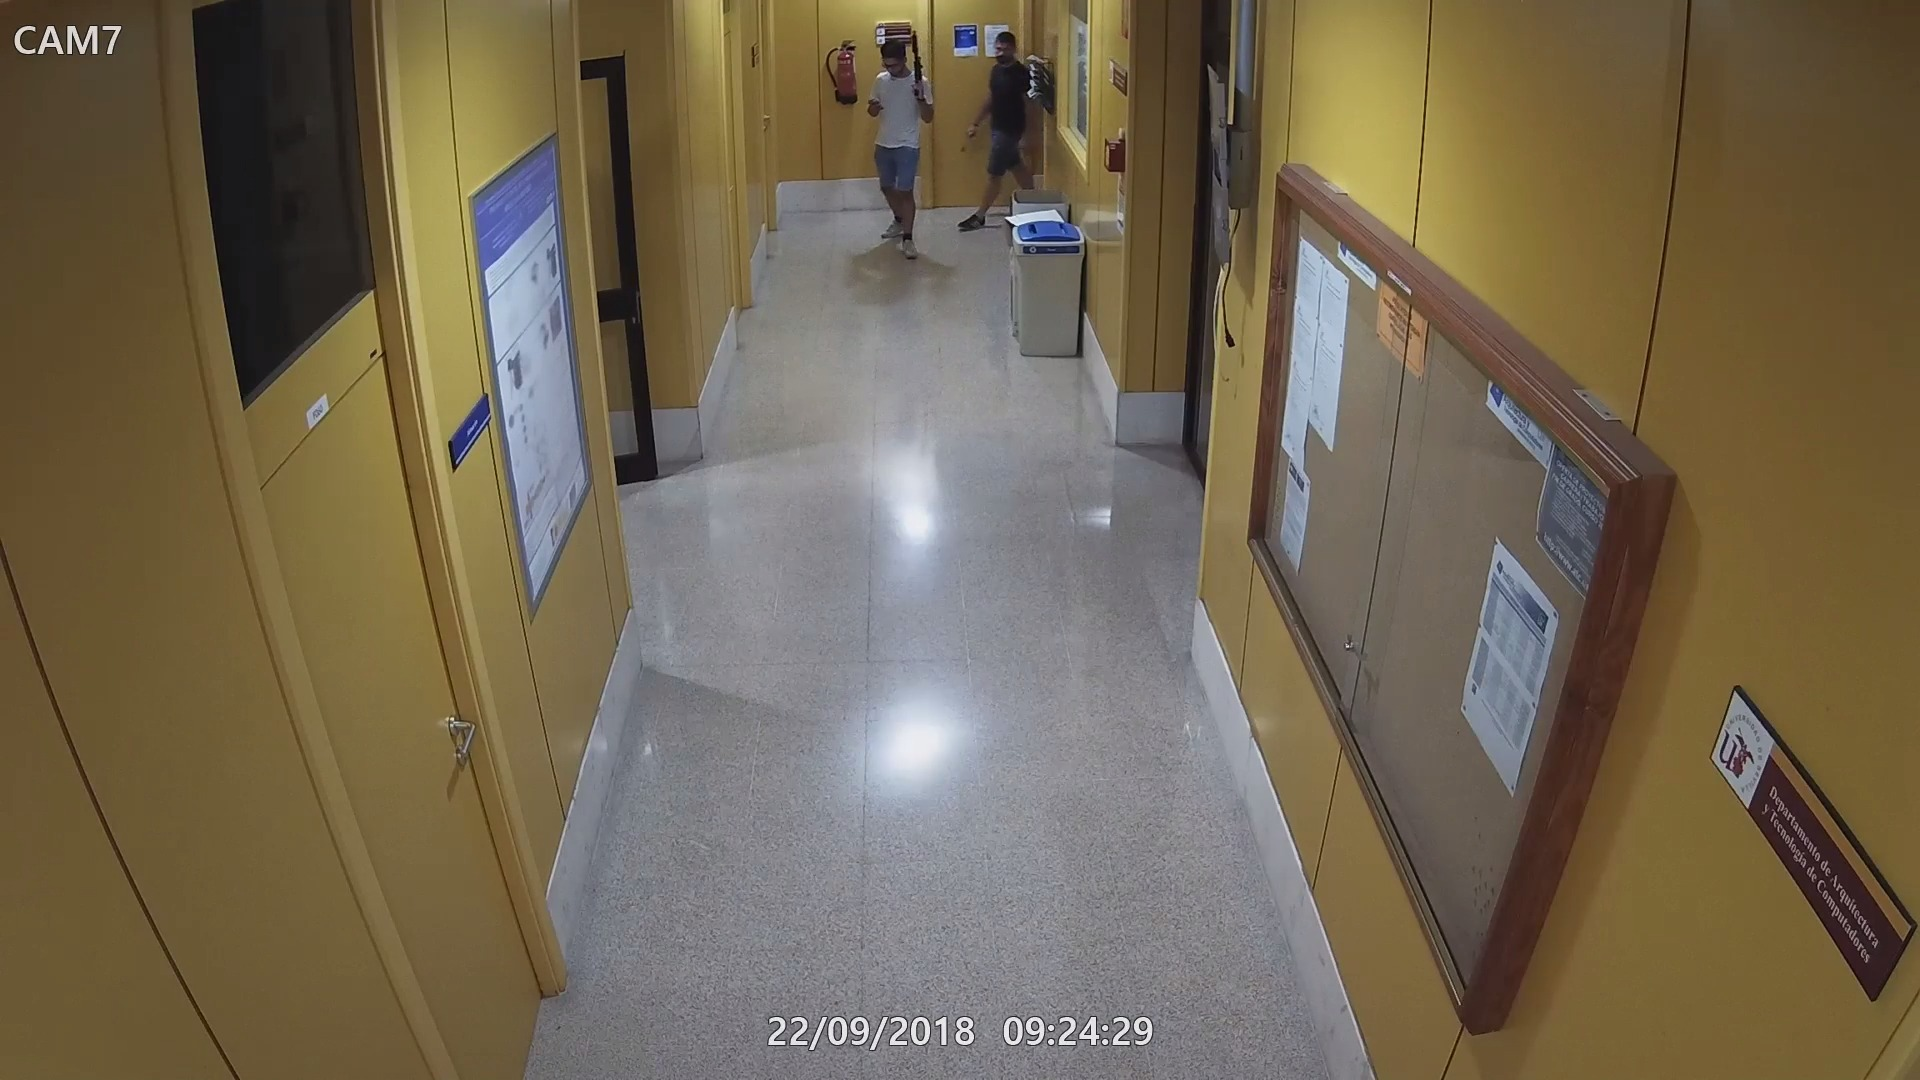Handgun: (957, 124, 982, 152)
Short_rifle: (902, 29, 928, 100)
